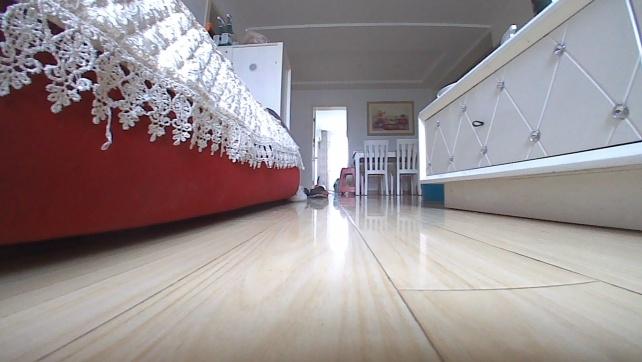dining_table: (349, 136, 422, 195)
sofa1: (0, 0, 306, 248)
